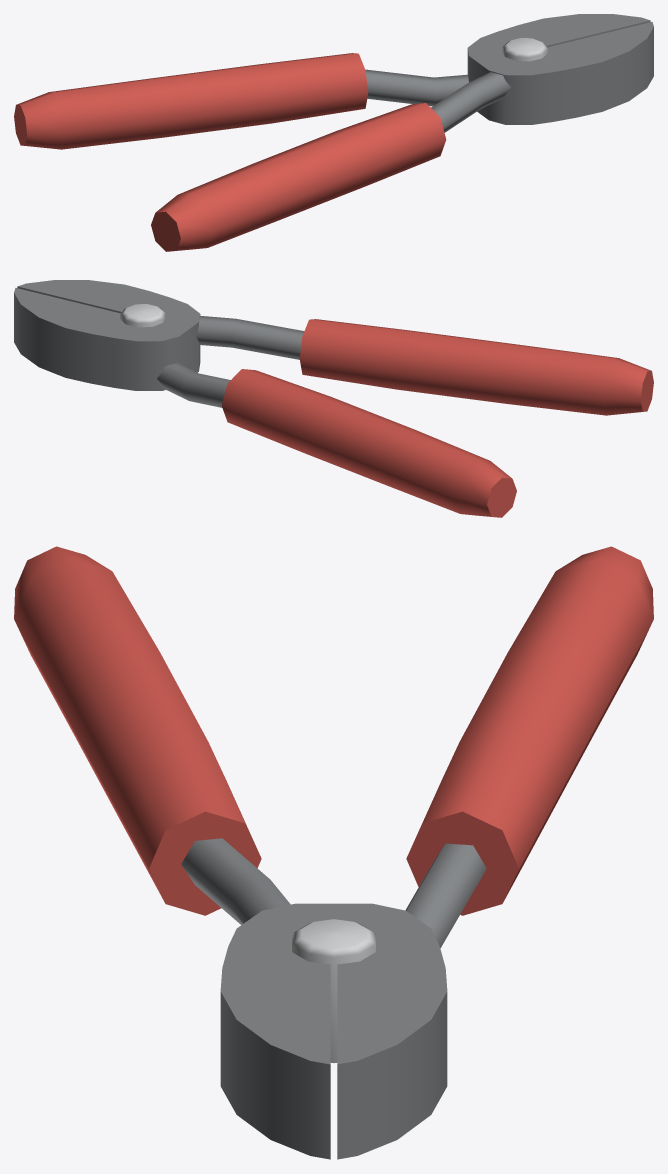
The model's file is Item_Cutters.fbx.
3 views of the same model, one above another, from view 1: azimuth 30°, elevation 25°; view 2: azimuth 150°, elevation 25°; view 3: azimuth 270°, elevation 25° (orthographic). The views are drawn at different scales.
Parts seen in each view (by area): view 1: Item_Cutters; view 2: Item_Cutters; view 3: Item_Cutters.
Boxes of the visible parts, <box> form: Item_Cutters: <box>14,14,653,251</box>; Item_Cutters: <box>14,280,653,517</box>; Item_Cutters: <box>14,546,653,1159</box>.
Bounding box in the file's own units: 0.1466 × 0.0147 × 0.0756.
